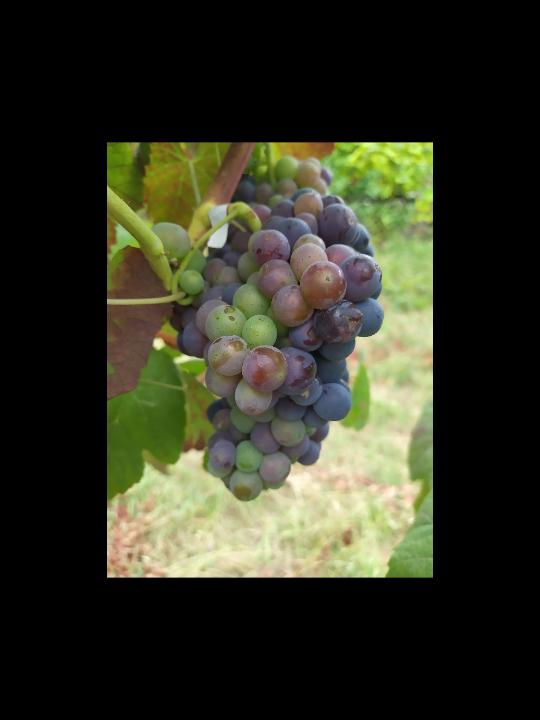grape: (179, 191, 387, 503)
